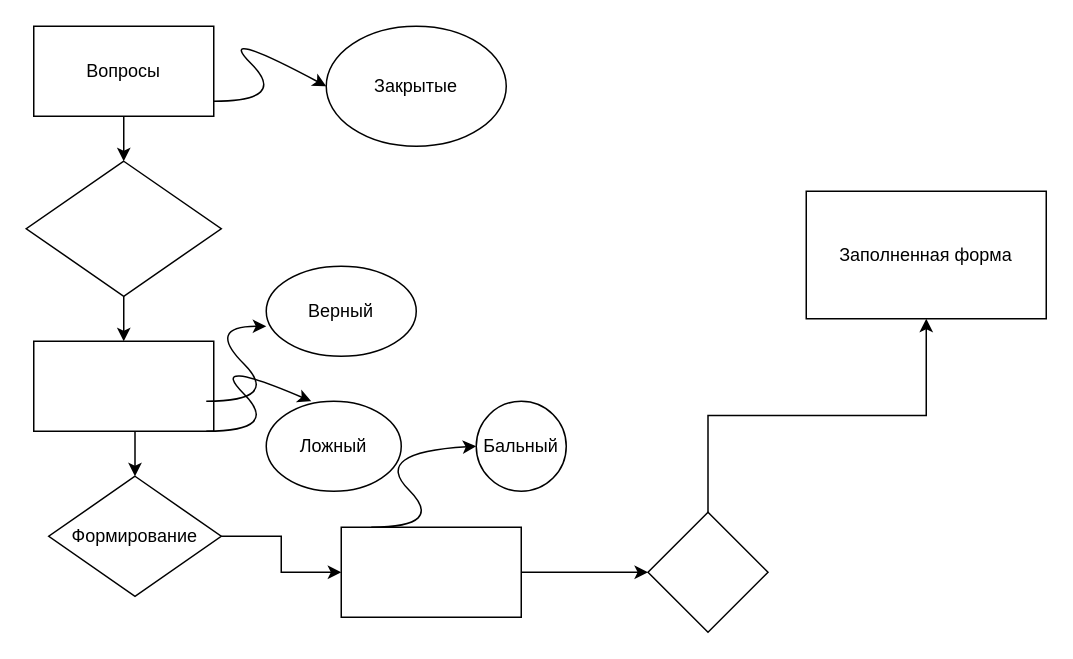
Some shapes in this 1073 by 659 pixel diagram are drawn without their labels. Here are the shapes that lost their labels. From the top down, the centre of each, then its label:
(123,228): Выбор
(123,385): Варианты ответов
(430,571): Результат
(707,571): Отправка
